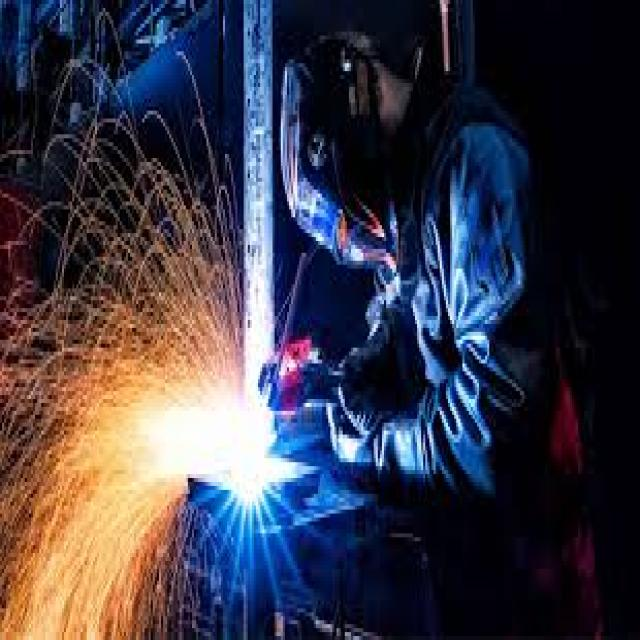welding: (170, 413, 268, 484), (233, 394, 270, 487)
